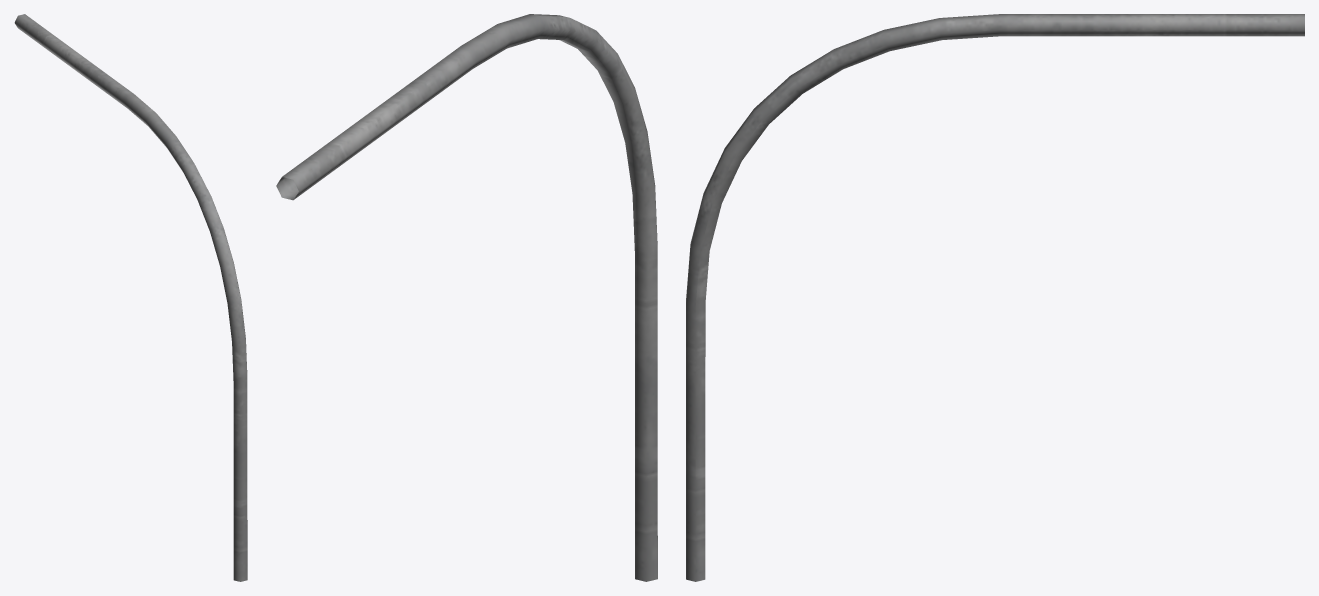
The model's file is MB_Tube_A_Angle_02.fbx.
The picture shows the model from 3 angles, left to right: view 1: azimuth 30°, elevation 25°; view 2: azimuth 150°, elevation 25°; view 3: azimuth 270°, elevation 25°; orthographic projection. The views are drawn at different scales.
Parts seen in each view (by area): view 1: MB_Tube_A_Angle_02; view 2: MB_Tube_A_Angle_02; view 3: MB_Tube_A_Angle_02.
Part boxes in pixels (left/top/right/bottom): MB_Tube_A_Angle_02: left=14, top=14, right=247, bottom=581; MB_Tube_A_Angle_02: left=276, top=14, right=657, bottom=581; MB_Tube_A_Angle_02: left=686, top=14, right=1304, bottom=581.
Bounding box in the file's own units: 3.68 × 102 × 102.
